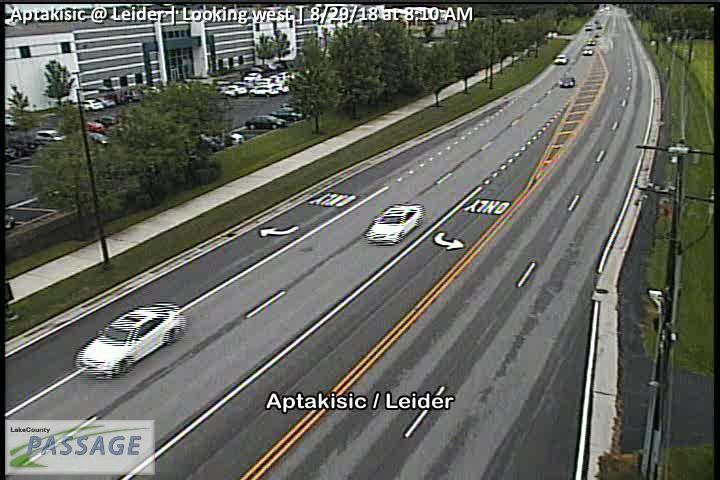Sedan: (74, 301, 185, 378), (366, 204, 423, 244), (244, 115, 285, 128), (249, 84, 279, 97), (223, 85, 247, 97), (560, 76, 575, 88), (553, 55, 568, 64), (583, 46, 592, 56)
